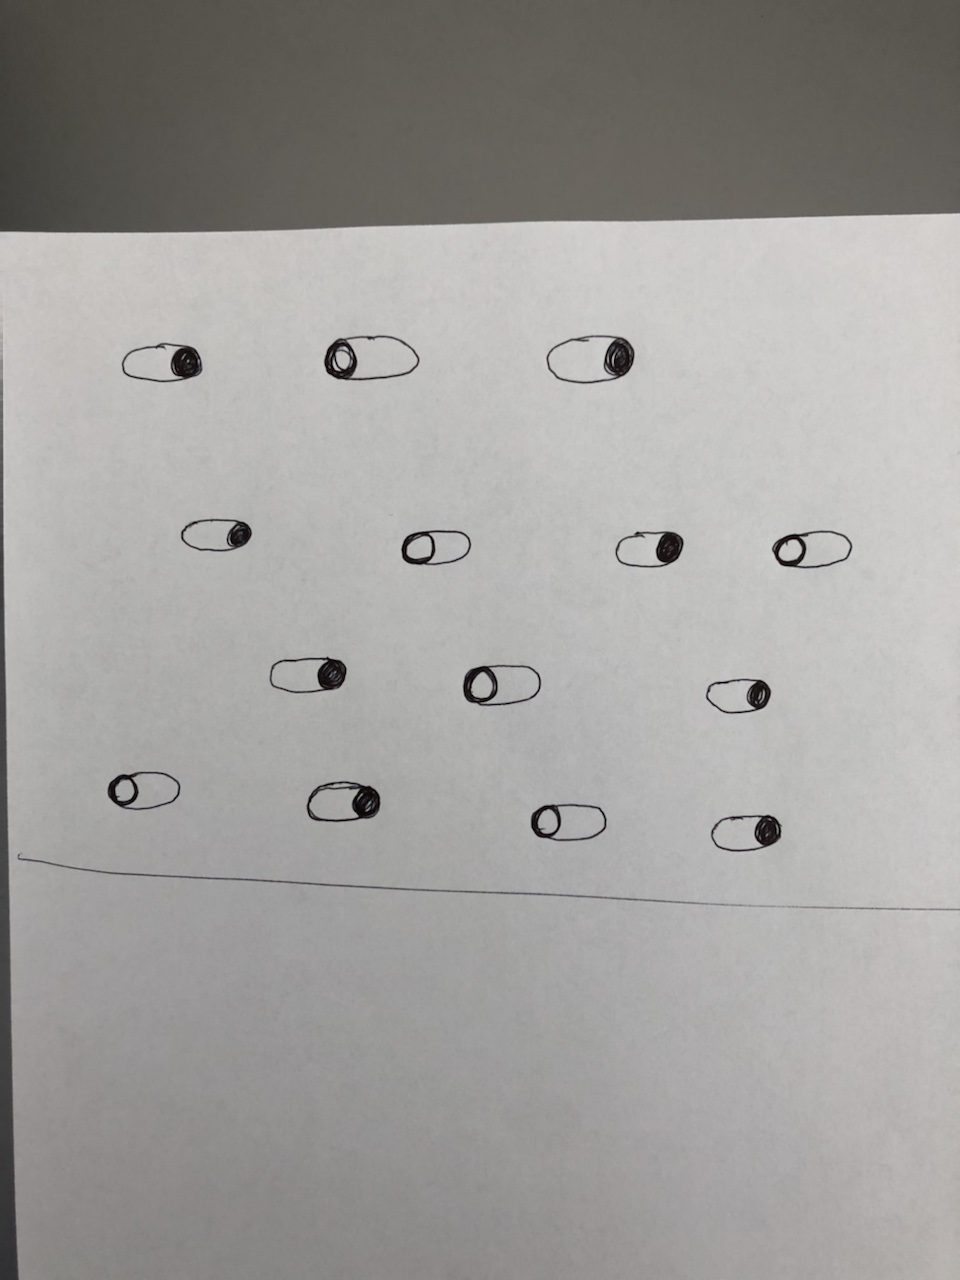switch: (536, 325, 642, 390), (320, 331, 432, 388), (260, 643, 354, 701), (302, 771, 390, 826), (770, 524, 863, 577), (606, 522, 688, 577), (703, 805, 785, 860), (178, 505, 257, 561), (114, 336, 204, 385), (458, 658, 546, 709), (390, 523, 483, 567), (702, 670, 781, 722), (107, 766, 187, 816), (530, 798, 611, 848)
